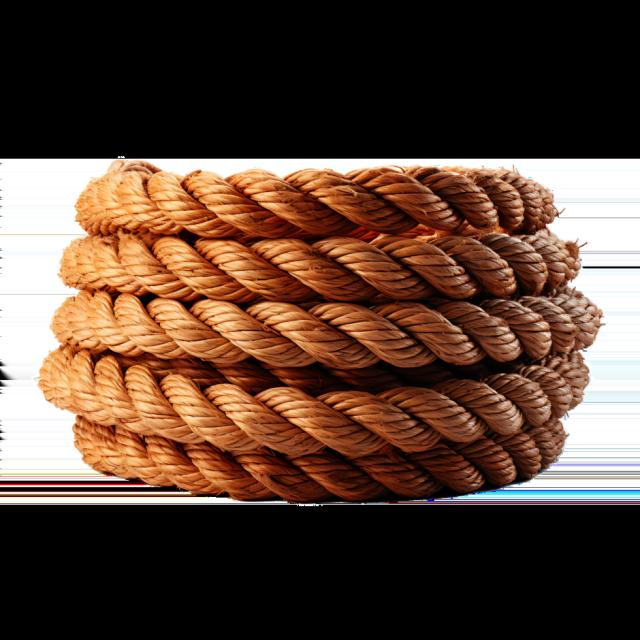Rope: (36, 140, 605, 503)
